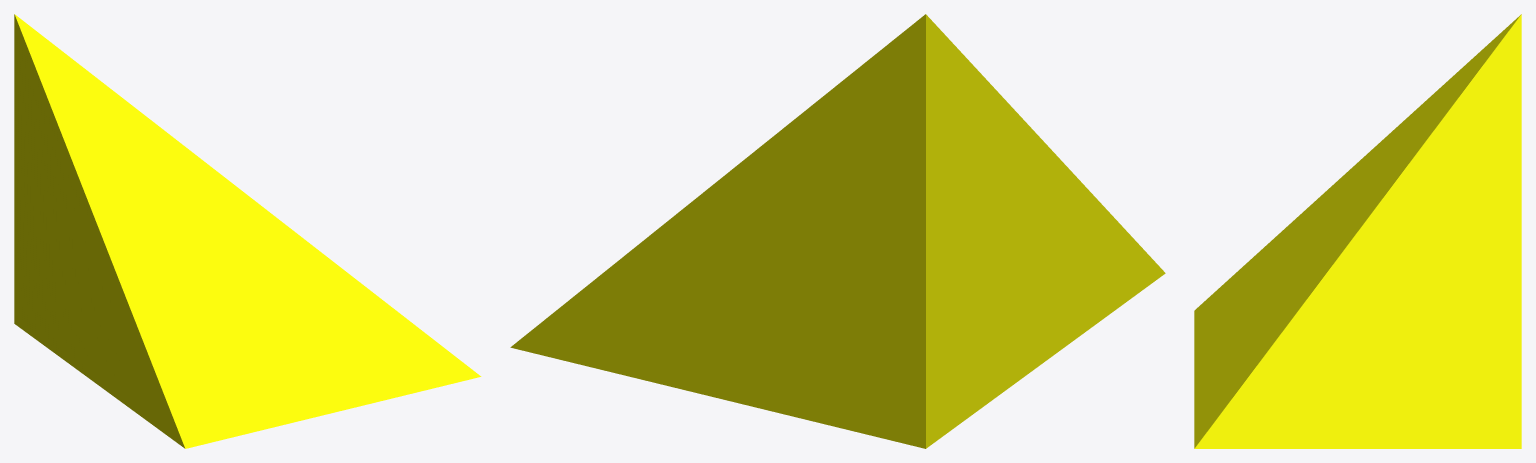
Rendered from kaykit-primitive-slope-outercorner.glb.
3 renders of one model, left to right at view 1: azimuth 30°, elevation 25°; view 2: azimuth 150°, elevation 25°; view 3: azimuth 270°, elevation 25°, orthographic. The views are drawn at different scales.
Visible parts, largest first — view 1: Primitive_Slope_OuterCorner; view 2: Primitive_Slope_OuterCorner; view 3: Primitive_Slope_OuterCorner.
Boxes of the visible parts, x1,y1,x2,y2 form: Primitive_Slope_OuterCorner: [14, 14, 481, 448]; Primitive_Slope_OuterCorner: [510, 14, 1165, 448]; Primitive_Slope_OuterCorner: [1194, 14, 1521, 448].
Size of the model in its own units: 4 by 4 by 4.
